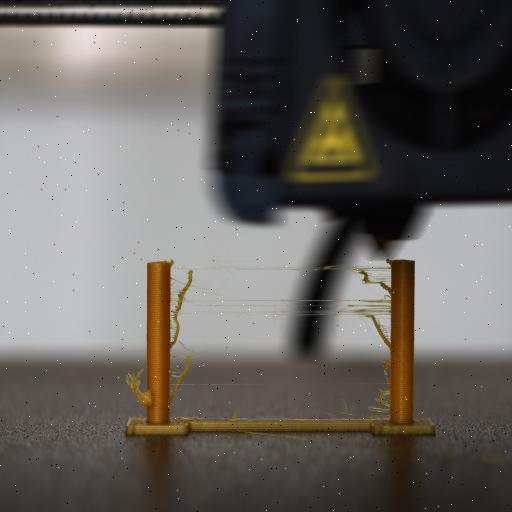stringing: (170, 259, 392, 351)
